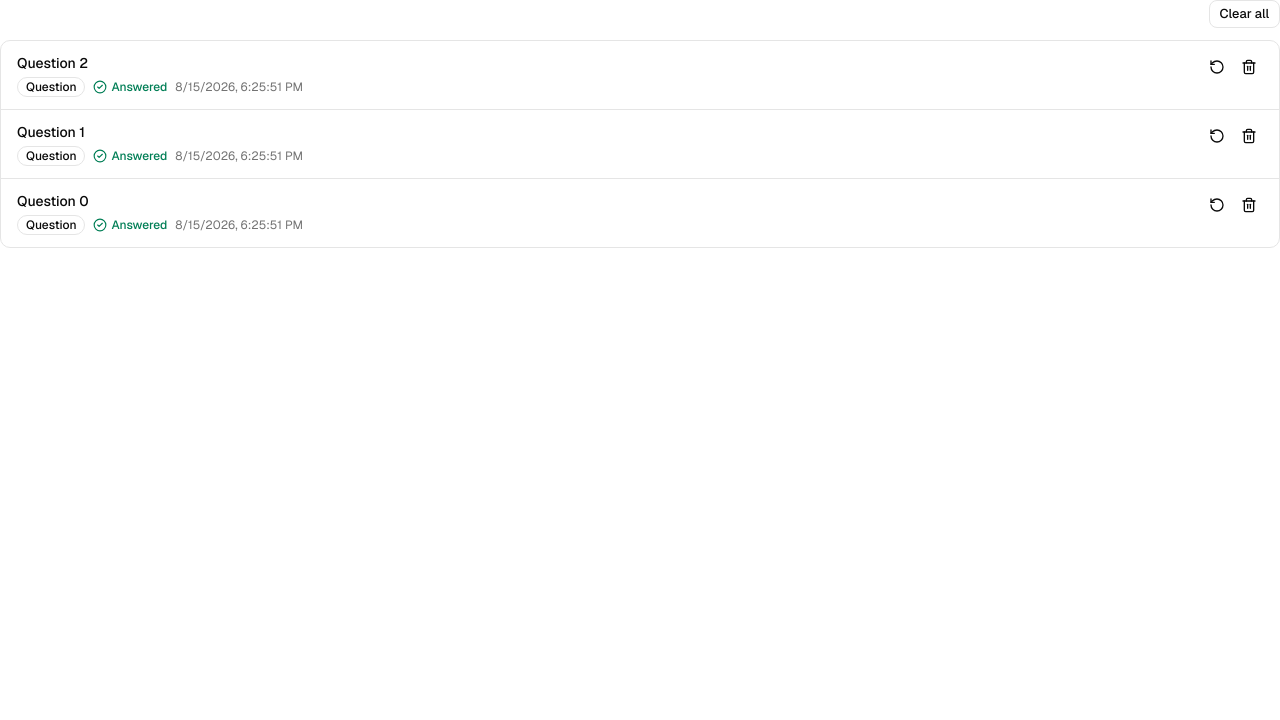
Test: HistoryList component › singular vs plural › shows 'entries' plural when multiple
This screenshot has width=1280, height=720.
Check: the text "Question 0" is shown, box [17, 192, 89, 210]
Click the button "Clear all": (1244, 14) [1209, 0, 1279, 28]
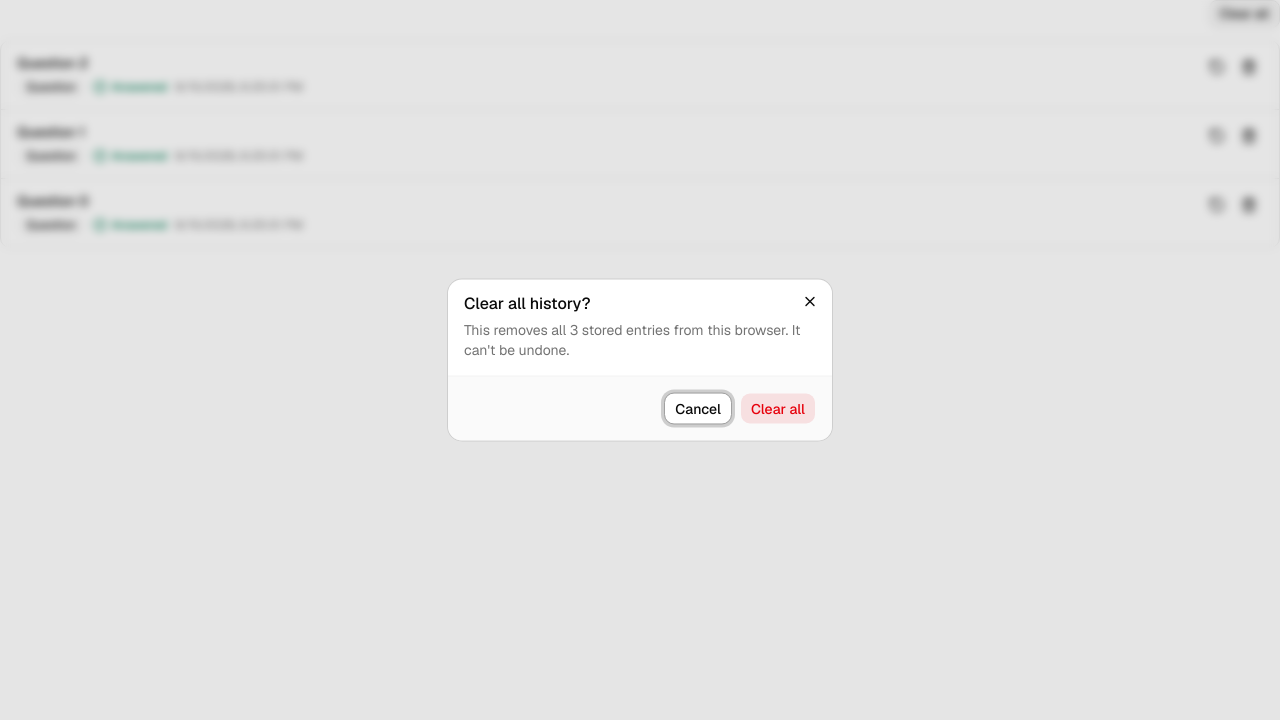
Check: the text "3 stored entries" is shown, box [464, 320, 816, 360]
